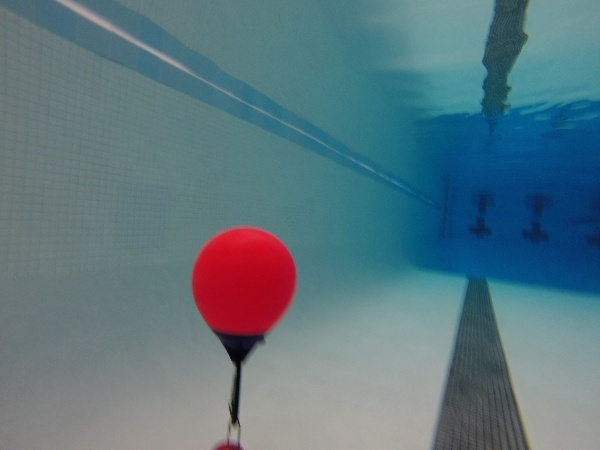buoy_red: (187, 222, 302, 372)
